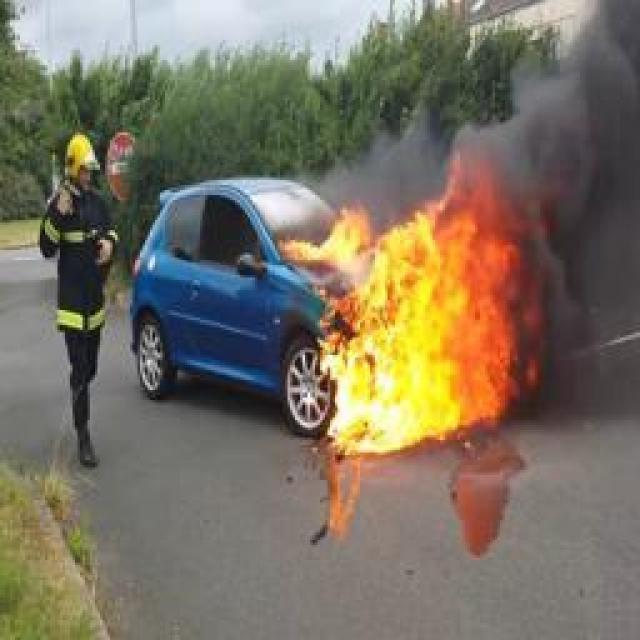Fire: (282, 151, 538, 454)
